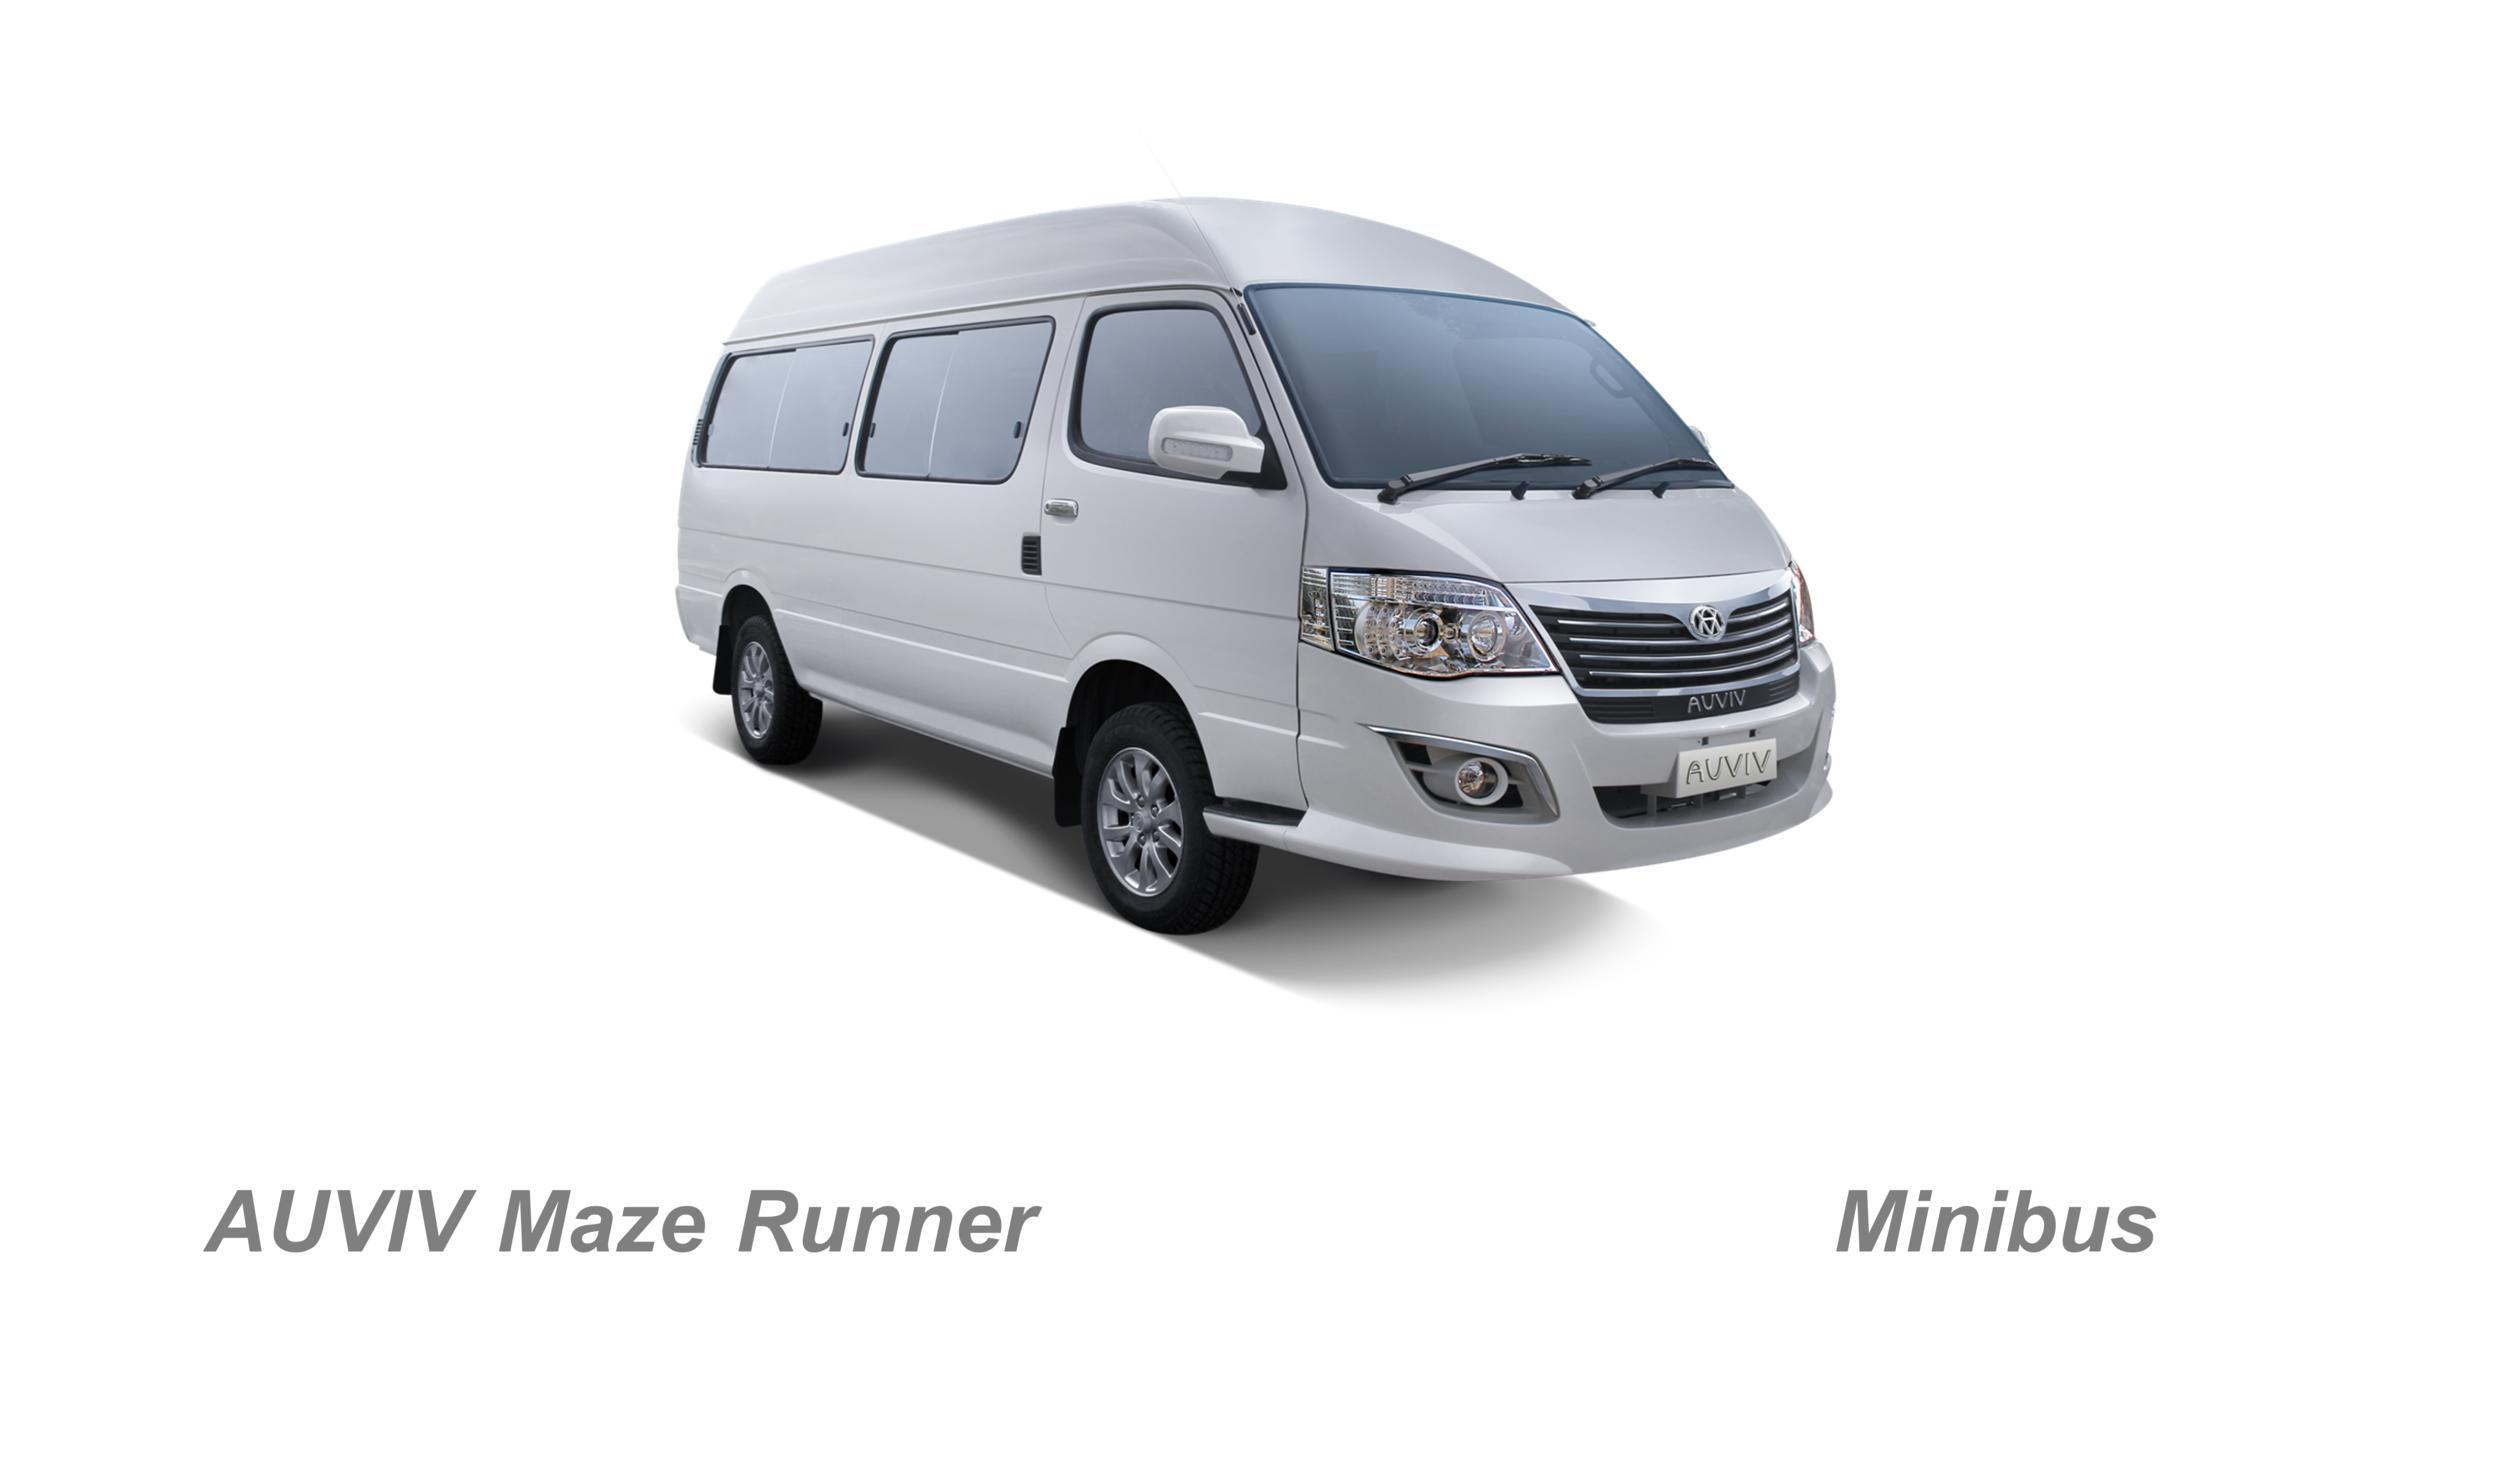van: (652, 115, 1875, 970)
